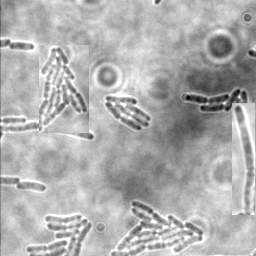Dividing: (232, 103, 255, 215), (1, 123, 95, 142), (8, 41, 35, 52)
Microcolony: (109, 200, 205, 255), (39, 45, 89, 133), (25, 212, 94, 255), (184, 89, 248, 126), (103, 96, 150, 132), (16, 182, 48, 193)
